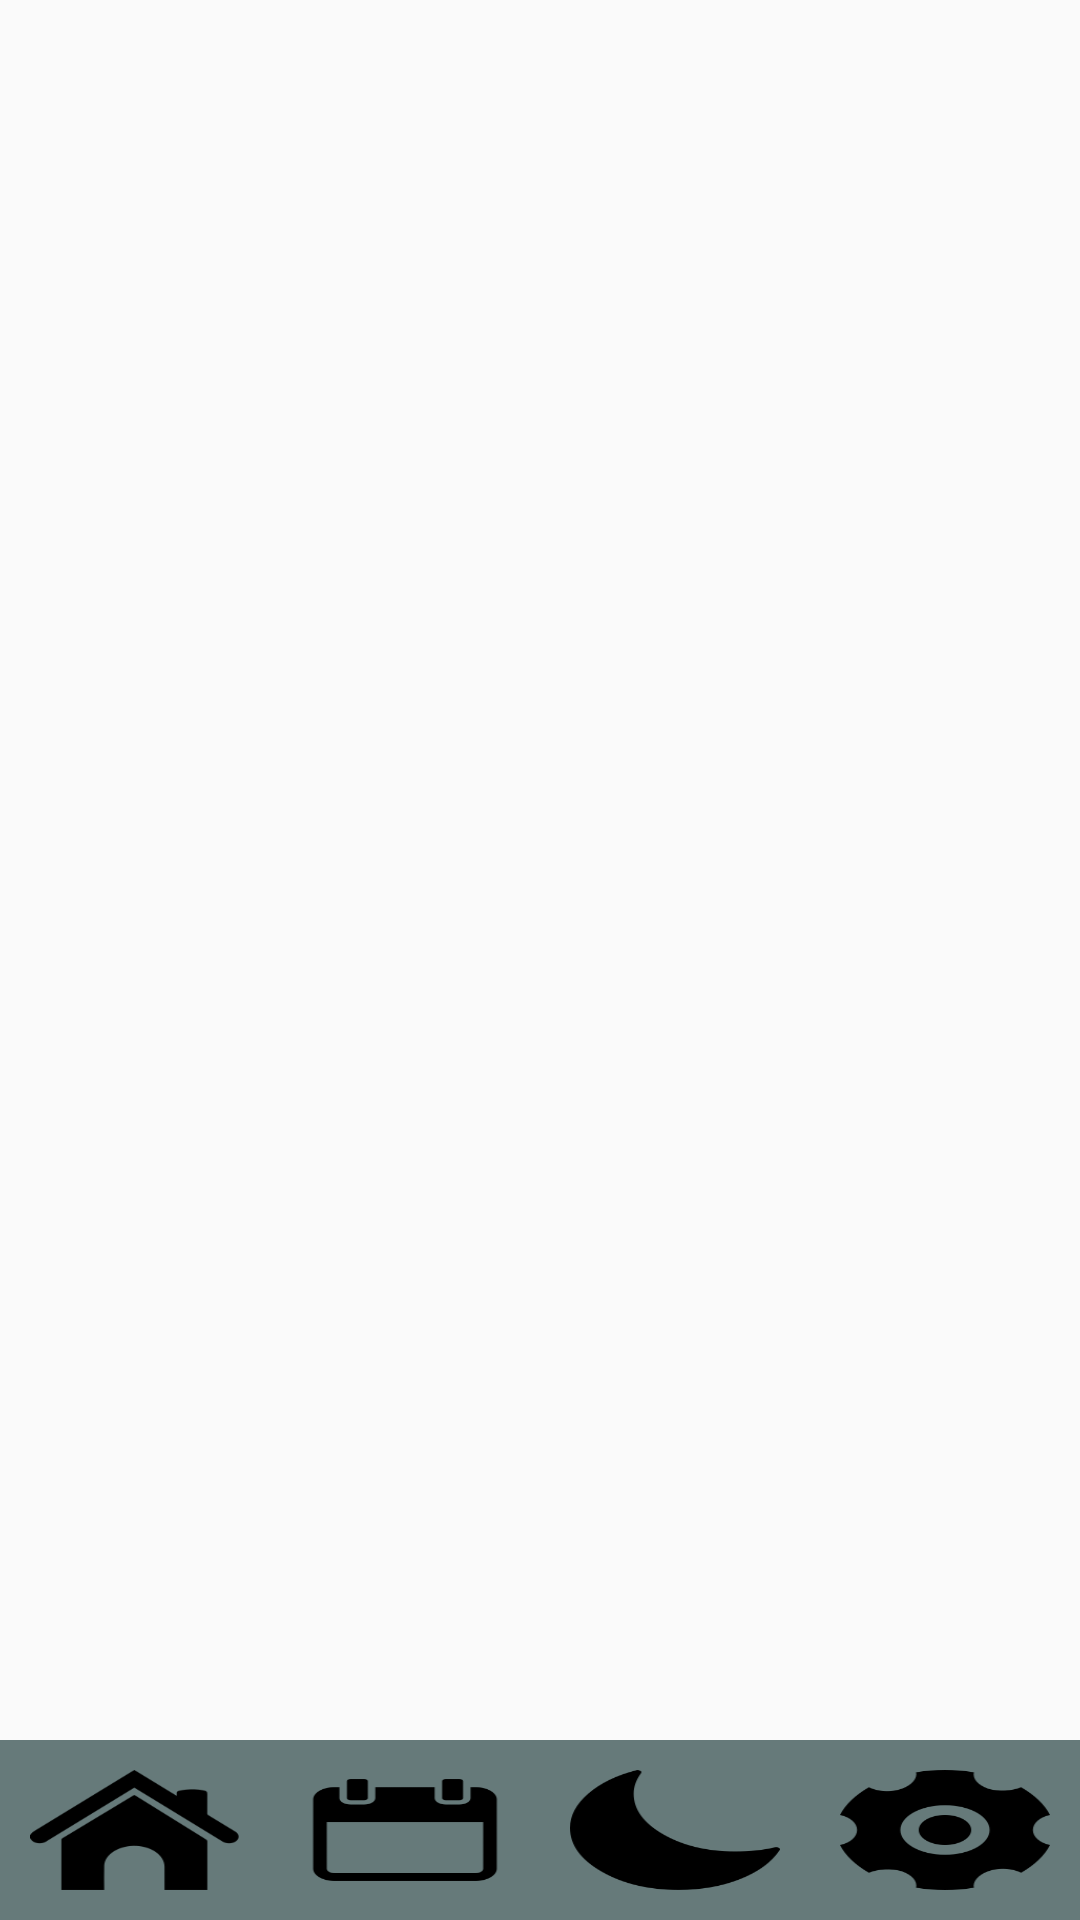

Where icons sit on this 1080 × 1920 app screen, as bbox(x1, y1, x2, y2):
date: bbox(313, 1779, 497, 1881)
home: bbox(30, 1770, 239, 1890)
shezhi: bbox(840, 1770, 1050, 1890)
yuelaing: bbox(570, 1770, 780, 1890)
